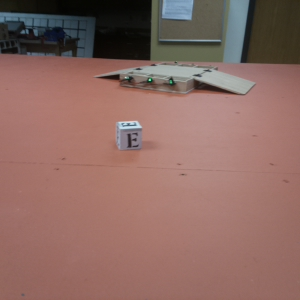blockE: (116, 120, 142, 151)
side: (120, 71, 194, 96)
slope: (198, 70, 257, 99), (93, 65, 133, 79)
